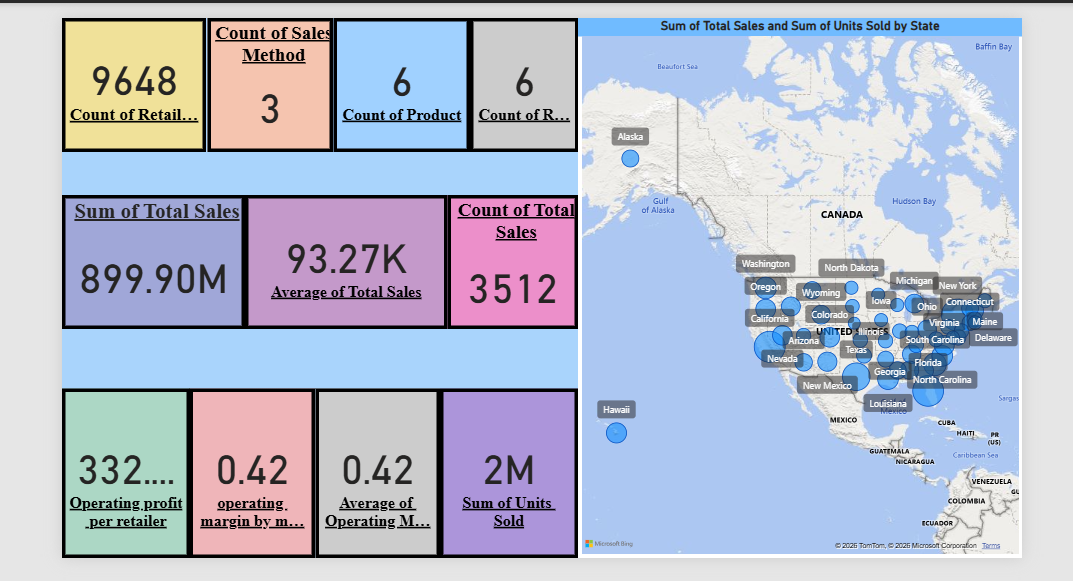

Layout of this report page (visuals, bound fields, positions):
{"tool":"powerbi","page":{"name":"Executive Sales Overview","canvas":[1280,720],"ordinal":0},"visuals":[{"type":"card","fields":{"Values":["Avg(Table 1 (Data Sales Adidas).Total Sales)"]},"box":[244,235.8,270,178.9],"z":0},{"type":"card","fields":{"Values":["CountNonNull(Table 1 (Data Sales Adidas).Retailer ID)"]},"box":[0,0,192.2,178.9],"z":1000},{"type":"card","fields":{"Values":["Count(Table 1 (Data Sales Adidas).Product)"]},"box":[361.1,0,182.2,178.9],"z":2000},{"type":"card","title":"Sum of Total Sales","fields":{"Values":["Sum(Table 1 (Data Sales Adidas).Total Sales)"]},"box":[0,235.8,244,178.9],"z":3000},{"type":"card","title":"Count of Total Sales","fields":{"Values":["Count(Table 1 (Data Sales Adidas).Total Sales)"]},"box":[514,235.8,174,178.9],"z":4000},{"type":"card","fields":{"Values":["Count(Table 1 (Data Sales Adidas).Retailer)"]},"box":[543.3,0,144.8,178.9],"z":5000},{"type":"card","fields":{"Values":["Avg(Table 1 (Data Sales Adidas).Operating Margin)"]},"box":[338.3,494.5,165.9,226.1],"z":6000},{"type":"card","title":"Count of Sales Method","fields":{"Values":["Count(Table 1 (Data Sales Adidas).Sales Method)"]},"box":[193.6,0,167.5,178.9],"z":7000},{"type":"card","fields":{"Values":["Sum(Table 1 (Data Sales Adidas).Units Sold)"]},"box":[504.2,494.5,183.8,226.1],"z":8000},{"type":"card","fields":{"Values":["Table 1 (Data Sales Adidas).operating margin by method"]},"box":[170.8,494.5,167.5,226.1],"z":9000},{"type":"card","fields":{"Values":["Table 1 (Data Sales Adidas).Operating profit per retailer"]},"box":[0,494.5,170.8,226.1],"z":10000},{"type":"map","fields":{"Category":["Table 1 (Data Sales Adidas).State"],"Size":["Sum(Table 1 (Data Sales Adidas).Total Sales)"]},"box":[687.4,0,593,720.6],"z":11000}]}

Visuals, with their boxes on the page's 1280x720 design canvas (x1, y1, x2, y2). These are canvas units, not pixel positions in the 1073x581 screenshot, which may show the page scaled, cropped or inside an application window:
card - Avg(Table 1 (Data Sales Adidas).Total Sales): [244,236,514,415]
card - CountNonNull(Table 1 (Data Sales Adidas).Retailer ID): [0,0,192,179]
card - Count(Table 1 (Data Sales Adidas).Product): [361,0,543,179]
"Sum of Total Sales" card: [0,236,244,415]
"Count of Total Sales" card: [514,236,688,415]
card - Count(Table 1 (Data Sales Adidas).Retailer): [543,0,688,179]
card - Avg(Table 1 (Data Sales Adidas).Operating Margin): [338,494,504,721]
"Count of Sales Method" card: [194,0,361,179]
card - Sum(Table 1 (Data Sales Adidas).Units Sold): [504,494,688,721]
card - Table 1 (Data Sales Adidas).operating margin by method: [171,494,338,721]
card - Table 1 (Data Sales Adidas).Operating profit per retailer: [0,494,171,721]
map - Table 1 (Data Sales Adidas).State x Sum(Table 1 (Data Sales Adidas).Total Sales): [687,0,1280,721]
